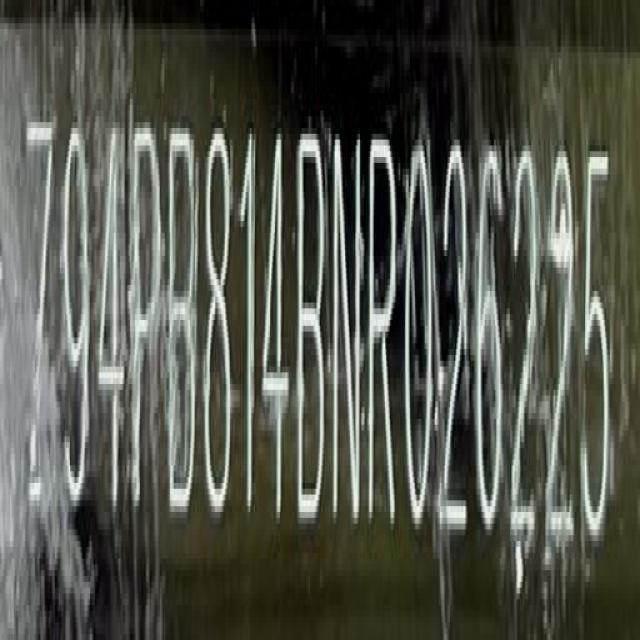0: (404, 137, 437, 542)
1: (238, 127, 255, 525)
2: (511, 143, 545, 549), (546, 146, 576, 554), (443, 140, 469, 545)
4: (260, 129, 293, 530), (96, 117, 128, 521)
5: (584, 148, 615, 552)
6: (476, 140, 504, 532)
8: (203, 126, 233, 524)
9: (61, 117, 93, 521)
B: (166, 120, 202, 521), (297, 124, 329, 531)
N: (331, 127, 365, 534)
P: (128, 115, 162, 521)
R: (368, 125, 400, 535)
Z: (25, 101, 54, 528)
